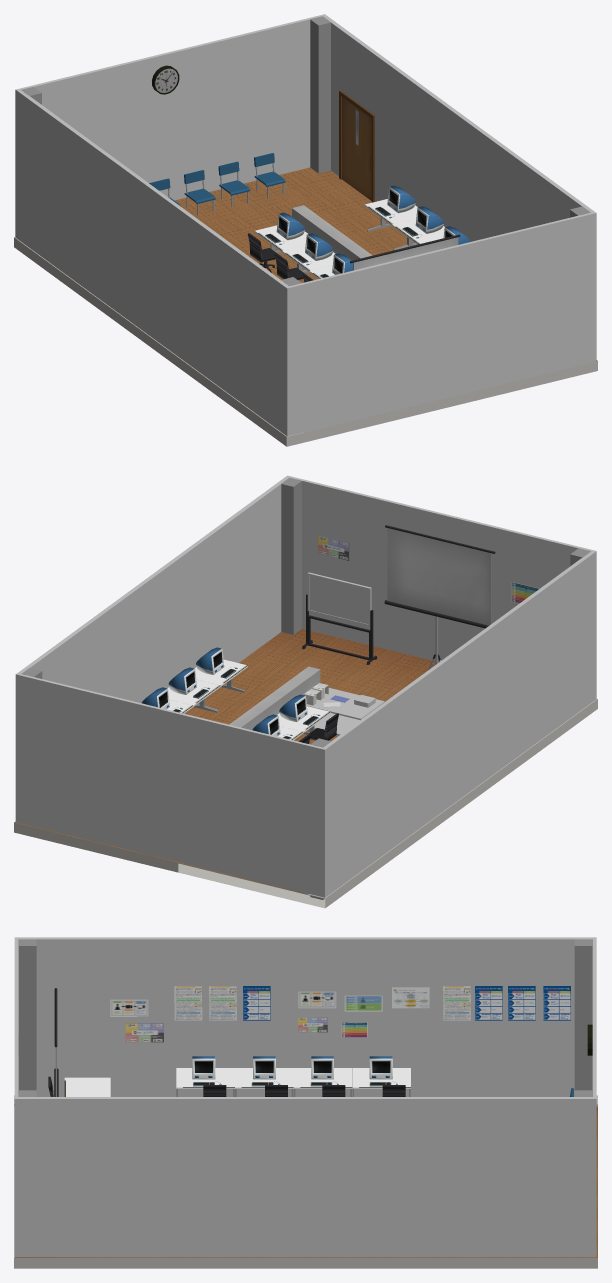
Rendered from classroom13.fbx.
3 views of the same model, one above another, from view 1: azimuth 30°, elevation 25°; view 2: azimuth 150°, elevation 25°; view 3: azimuth 270°, elevation 25° (orthographic). The views are drawn at different scales.
Visible parts, largest first — view 1: Cube.050, Cube.048, Cube.034, Cube.080, Cube.046, Cube.081, Cube.028, Cylinder.006, Cylinder.008, Cylinder.007, Cylinder.002, Cube.017 (+5 smaller); view 2: Cube.050, Cube.048, Cube.081, Cube.051, Cube.066, Cube.046, Cube.047, Cube.071, Cube.029, Cube.035, Cube.115, Cube.062 (+2 smaller); view 3: Cube.050, Cube.048, Cube.052, Cube.049, Cube.060, Cube.056, Cube.069, Cube.070, Cube.072, Cube.073, Cube.079, Cube.119 (+14 smaller).
Part boxes in pixels (x1=…): Cube.050: x1=15, y1=14, x2=596, y2=436; Cube.048: x1=14, y1=167, x2=597, y2=446; Cube.034: x1=310, y1=16, x2=330, y2=173; Cube.080: x1=342, y1=97, x2=371, y2=200; Cube.046: x1=292, y1=205, x2=372, y2=260; Cube.081: x1=353, y1=237, x2=458, y2=270; Cube.028: x1=339, y1=90, x2=374, y2=202; Cylinder.006: x1=184, y1=170, x2=215, y2=215; Cylinder.008: x1=254, y1=153, x2=285, y2=198; Cylinder.007: x1=218, y1=161, x2=250, y2=206; Cylinder.002: x1=152, y1=65, x2=179, y2=94; Cube.017: x1=364, y1=199, x2=417, y2=225; Cube.050: x1=15, y1=475, x2=596, y2=898; Cube.048: x1=14, y1=629, x2=597, y2=908; Cube.081: x1=387, y1=528, x2=491, y2=625; Cube.051: x1=281, y1=477, x2=301, y2=634; Cube.066: x1=307, y1=572, x2=371, y2=625; Cube.046: x1=229, y1=666, x2=320, y2=729; Cube.047: x1=306, y1=688, x2=384, y2=719; Cube.071: x1=302, y1=594, x2=376, y2=663; Cube.029: x1=167, y1=679, x2=220, y2=706; Cube.035: x1=195, y1=659, x2=247, y2=686; Cube.115: x1=318, y1=535, x2=349, y2=560; Cube.062: x1=277, y1=706, x2=330, y2=732; Cube.050: x1=14, y1=937, x2=596, y2=1257; Cube.048: x1=14, y1=1095, x2=597, y2=1268; Cube.052: x1=18, y1=939, x2=36, y2=1090; Cube.049: x1=574, y1=939, x2=592, y2=1090; Cube.060: x1=174, y1=986, x2=202, y2=1020; Cube.056: x1=543, y1=986, x2=570, y2=1020; Cube.069: x1=508, y1=986, x2=535, y2=1020; Cube.070: x1=475, y1=986, x2=502, y2=1020; Cube.072: x1=243, y1=986, x2=270, y2=1020; Cube.073: x1=209, y1=986, x2=236, y2=1020; Cube.079: x1=443, y1=986, x2=470, y2=1020; Cube.119: x1=64, y1=1077, x2=110, y2=1096.
Bounding box in the file's own units: 15487 × 7512 × 23508.
